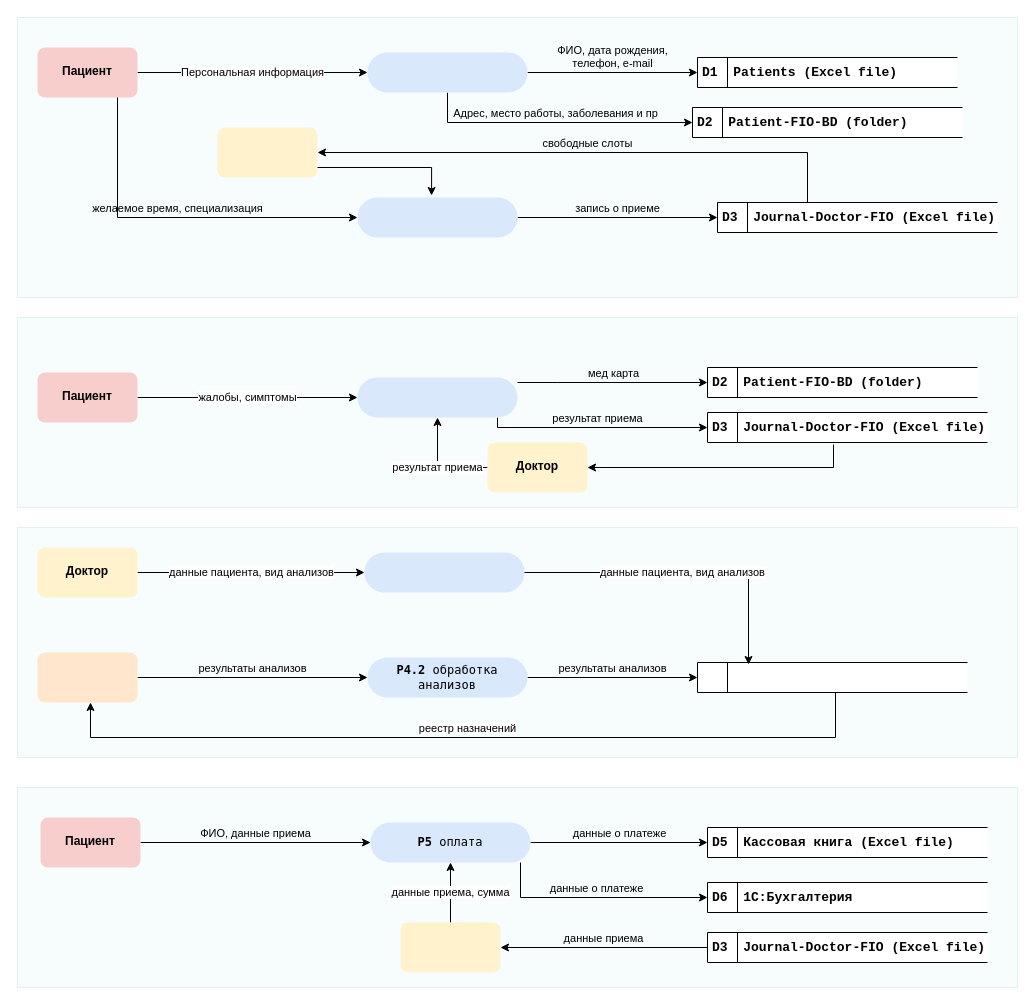
This 1035x1005 diagram has some shape labels left out. The centre of each missing label's shape, as x and y in pixels:
"D4 RegistryByDate (Excel file)" goes at point 832,677.
"P1 Регистрация пациента" goes at point 447,72.
"P2 Запись на прием" goes at point 437,217.
"P3 Прием пациента" goes at point 437,397.
"P4.1 назначение анализов" goes at point 444,572.
"Администратор" goes at point 267,152.
"Кассир" goes at point 450,947.
"Лаборатория" goes at point 87,677.
